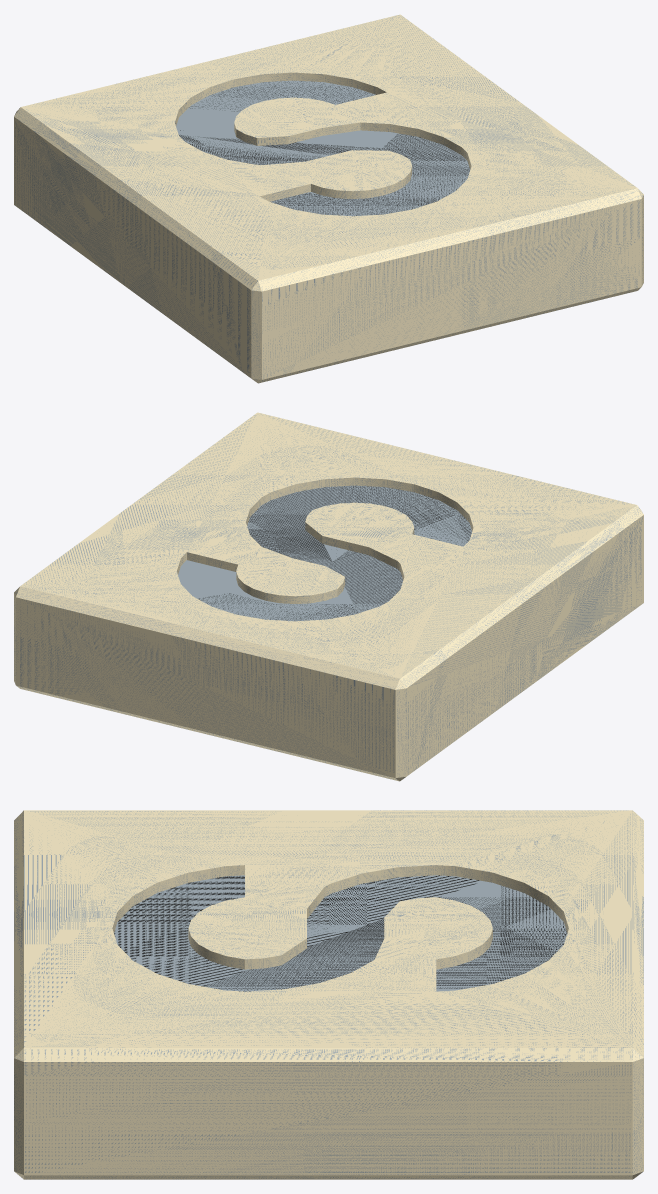
The model's file is Boardgame_Anagram_Tile_S.fbx.
3 views of the same model, one above another, from view 1: azimuth 30°, elevation 25°; view 2: azimuth 150°, elevation 25°; view 3: azimuth 270°, elevation 25° (orthographic). The views are drawn at different scales.
Visible parts, largest first — view 1: Model; view 2: Model; view 3: Model.
Part boxes in pixels (<box>): Model: <box>14,14,643,383</box>; Model: <box>14,412,643,781</box>; Model: <box>14,810,643,1179</box>.
Size of the model in its own units: 195 by 48.83 by 212.
